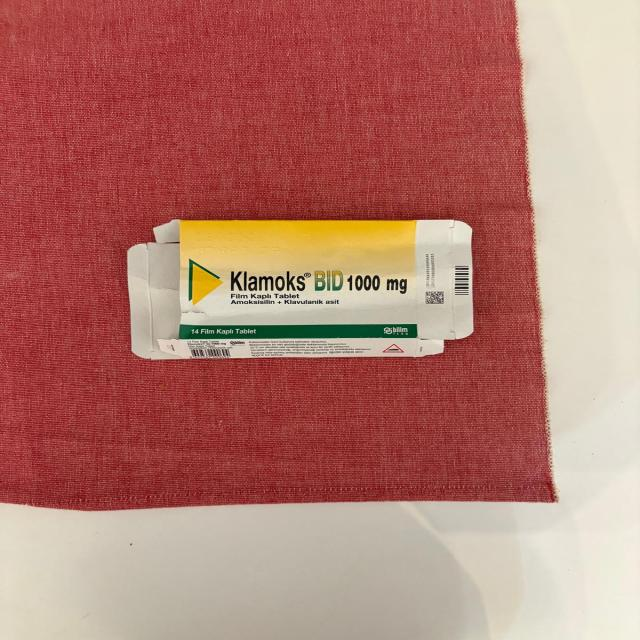damaged_package: (118, 217, 474, 362)
